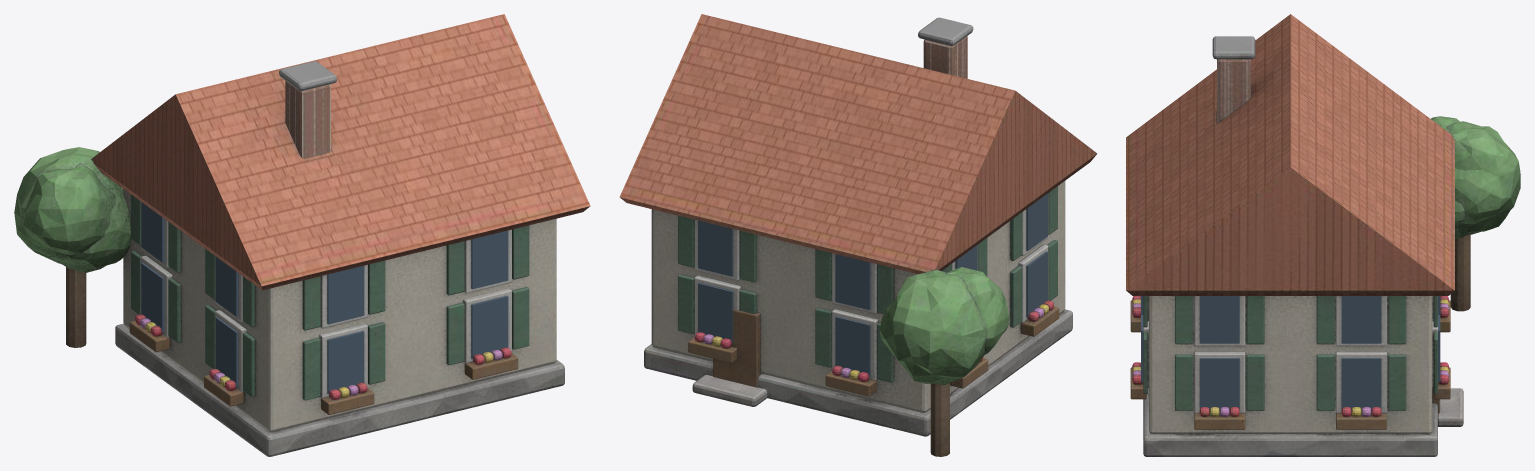
The model's file is haus.glb.
3 views of the same model, side by side, from view 1: azimuth 30°, elevation 25°; view 2: azimuth 150°, elevation 25°; view 3: azimuth 270°, elevation 25° (orthographic). The views are drawn at different scales.
Parts seen in each view (by area): view 1: haus, haus_details; view 2: haus, haus_details; view 3: haus, haus_details.
Boxes of the visible parts, bbox=[...] form: haus: bbox=[14, 14, 590, 456]; haus_details: bbox=[141, 202, 508, 394]; haus: bbox=[619, 14, 1097, 456]; haus_details: bbox=[698, 193, 1047, 376]; haus: bbox=[1126, 14, 1520, 456]; haus_details: bbox=[1141, 296, 1440, 409].
Size of the model in its own units: 0.7676 by 0.615 by 0.6959.
Materials: 2 (1 with a texture image).
